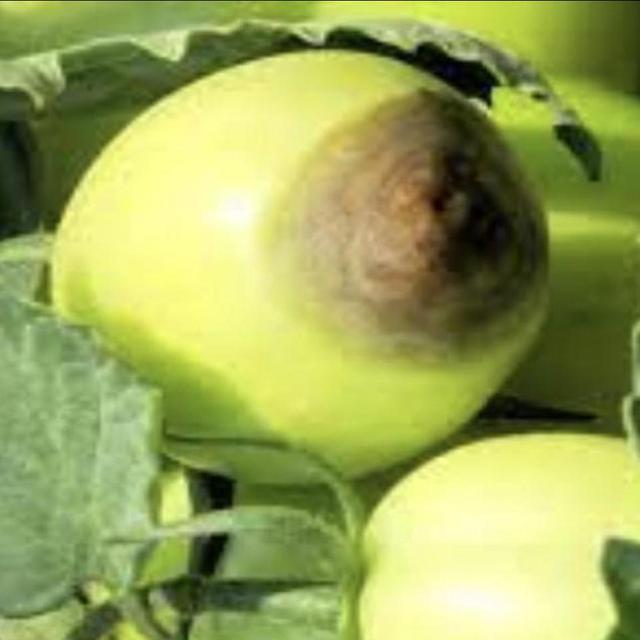Blossom End Rot Fruit: (179, 62, 364, 240)
